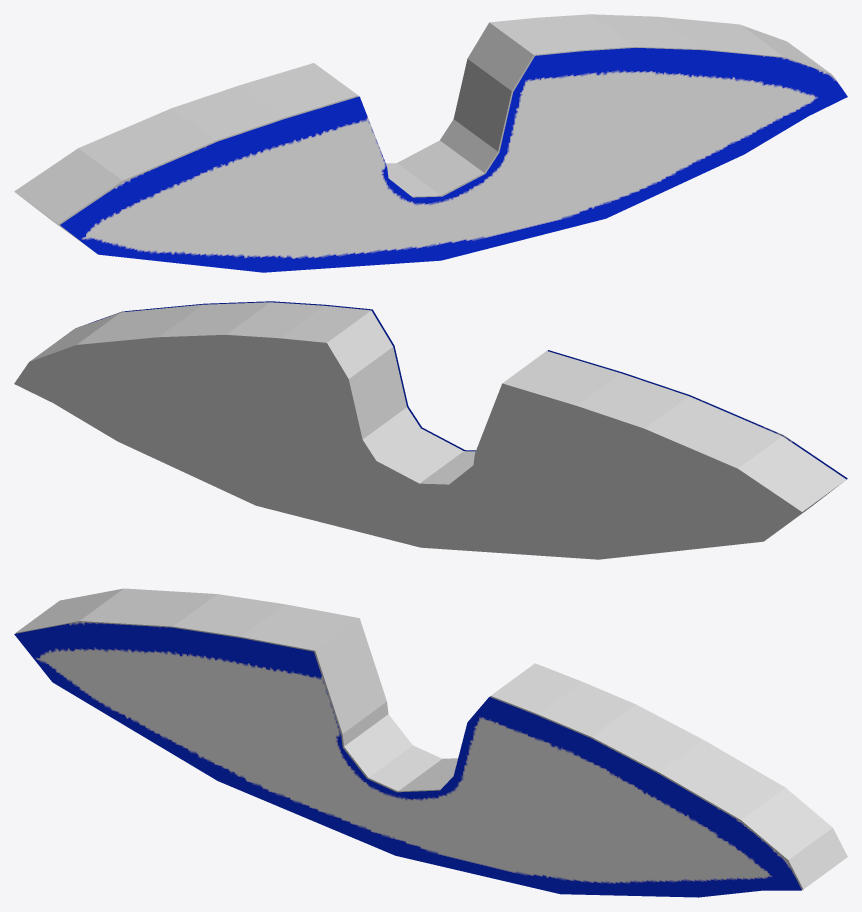
The picture shows the model from 3 angles, top to bottom: view 1: azimuth 30°, elevation 25°; view 2: azimuth 150°, elevation 25°; view 3: azimuth 330°, elevation 25°; orthographic projection.
Visible parts, largest first — view 1: In_2_1, In_2_0; view 2: In_2_0, In_2_1; view 3: In_2_1, In_2_0.
Part boxes in pixels (bbox=[...]): In_2_1: bbox=[60, 47, 847, 272]; In_2_0: bbox=[14, 14, 831, 251]; In_2_0: bbox=[14, 302, 846, 559]; In_2_1: bbox=[75, 301, 847, 479]; In_2_1: bbox=[14, 622, 801, 897]; In_2_0: bbox=[15, 588, 847, 889].
Bounding box in the file's own units: 5.12 × 1.14 × 0.515.
2 materials, 1 textured.
